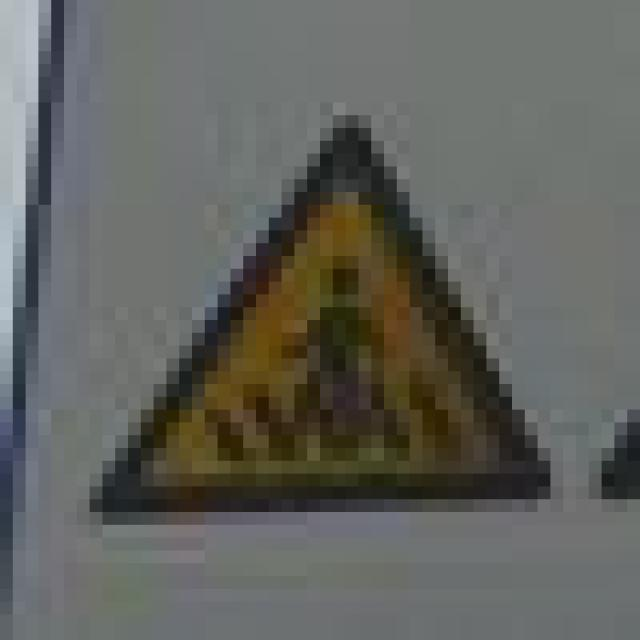pass_either_side: (64, 102, 550, 500)
